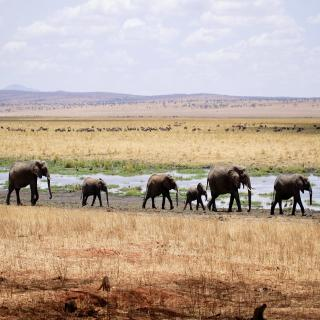Elephant: (206, 163, 256, 215), (6, 157, 53, 208), (269, 170, 313, 219), (141, 172, 180, 212), (80, 174, 110, 210), (182, 182, 208, 212)
